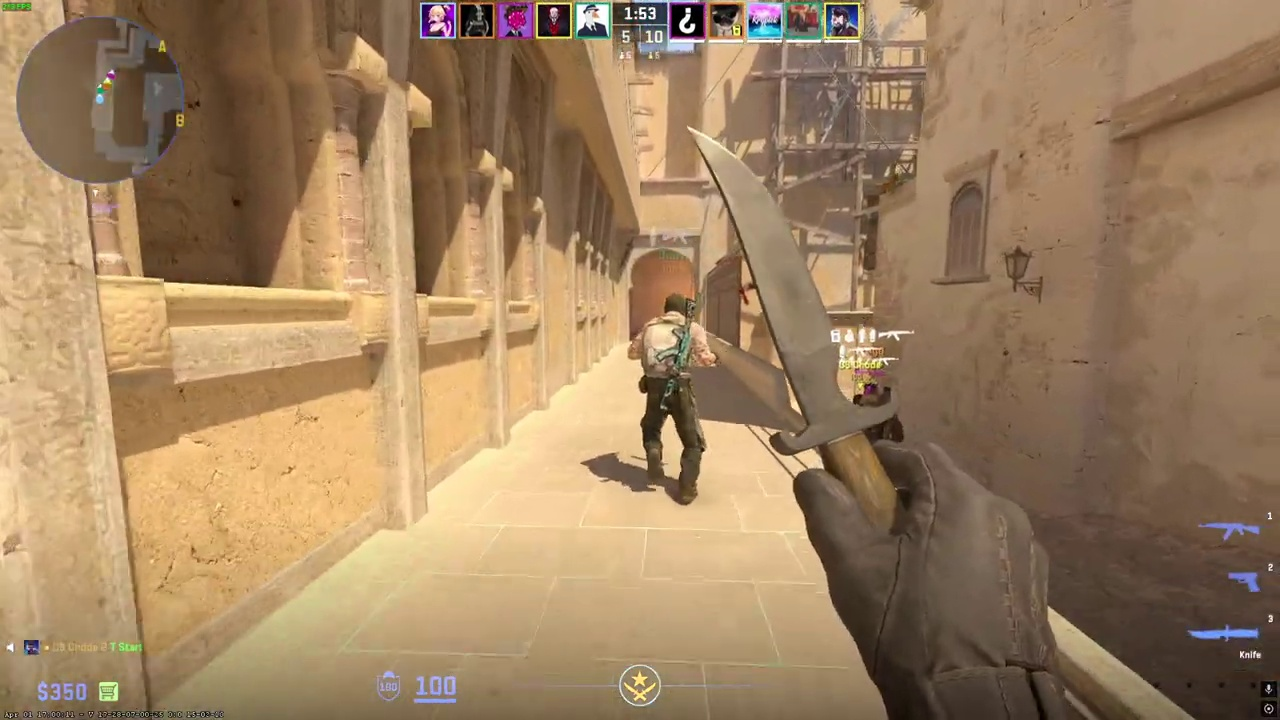Terrorist: (630, 293, 717, 505), (855, 385, 899, 443)
